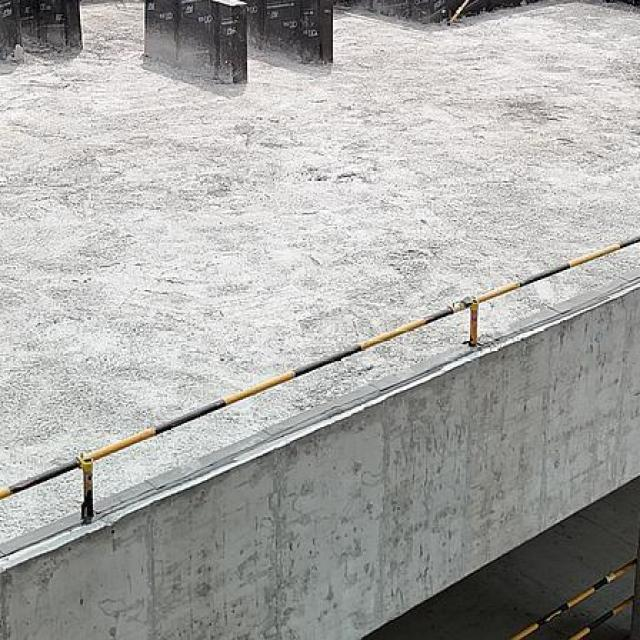edge_guardrail: (0, 230, 640, 520), (504, 543, 640, 640)
